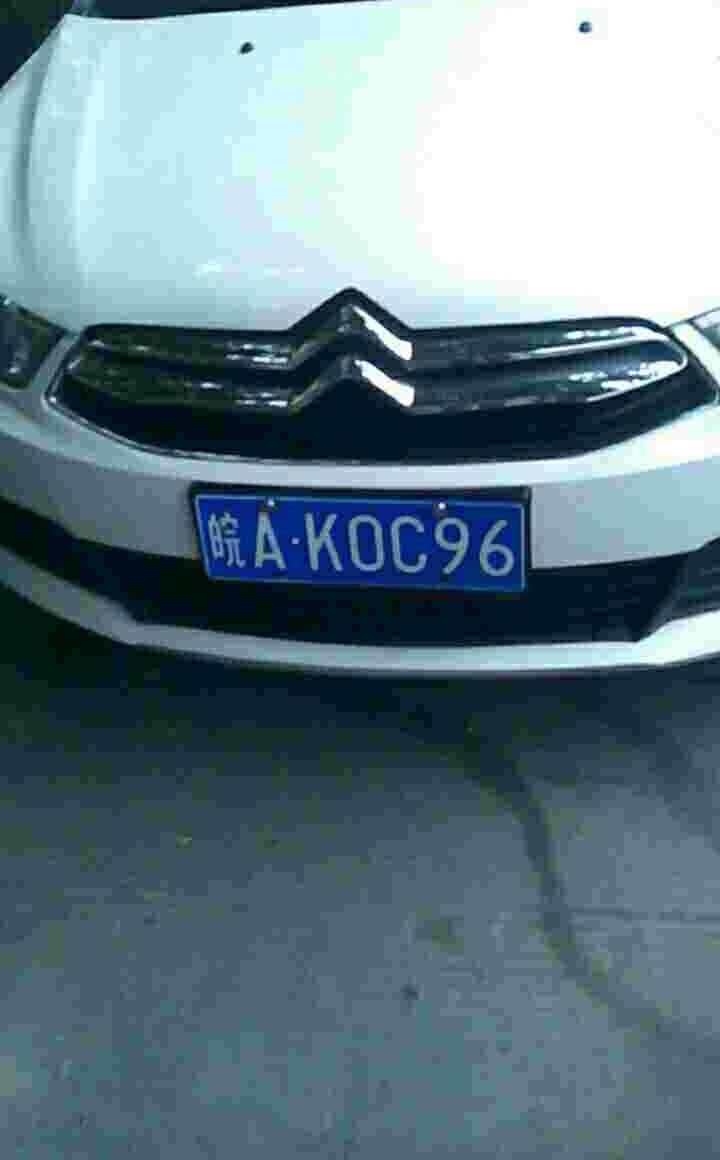license_plate: (194, 479, 543, 601)
